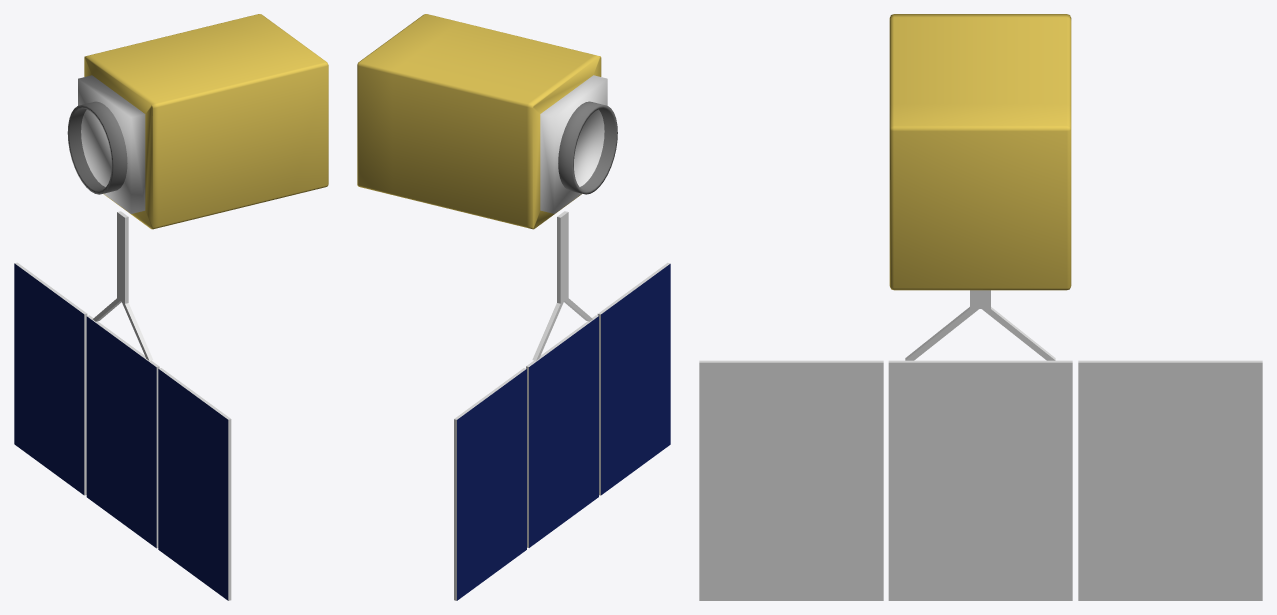
File: probe_3.glb
3 views of the same model, side by side, from view 1: azimuth 30°, elevation 25°; view 2: azimuth 150°, elevation 25°; view 3: azimuth 270°, elevation 25° (orthographic). The views are drawn at different scales.
Visible parts, largest first — view 1: Cube, Plane; view 2: Cube, Plane; view 3: Plane, Cube.
Part boxes in pixels (x1,y1,x2,y2): Cube: (67,14,328,229); Plane: (14,211,231,600); Cube: (357,14,617,229); Plane: (454,211,670,600); Plane: (699,290,1262,600); Cube: (889,14,1071,290).
Size of the model in its own units: 3.66 by 7.58 by 6.63.
